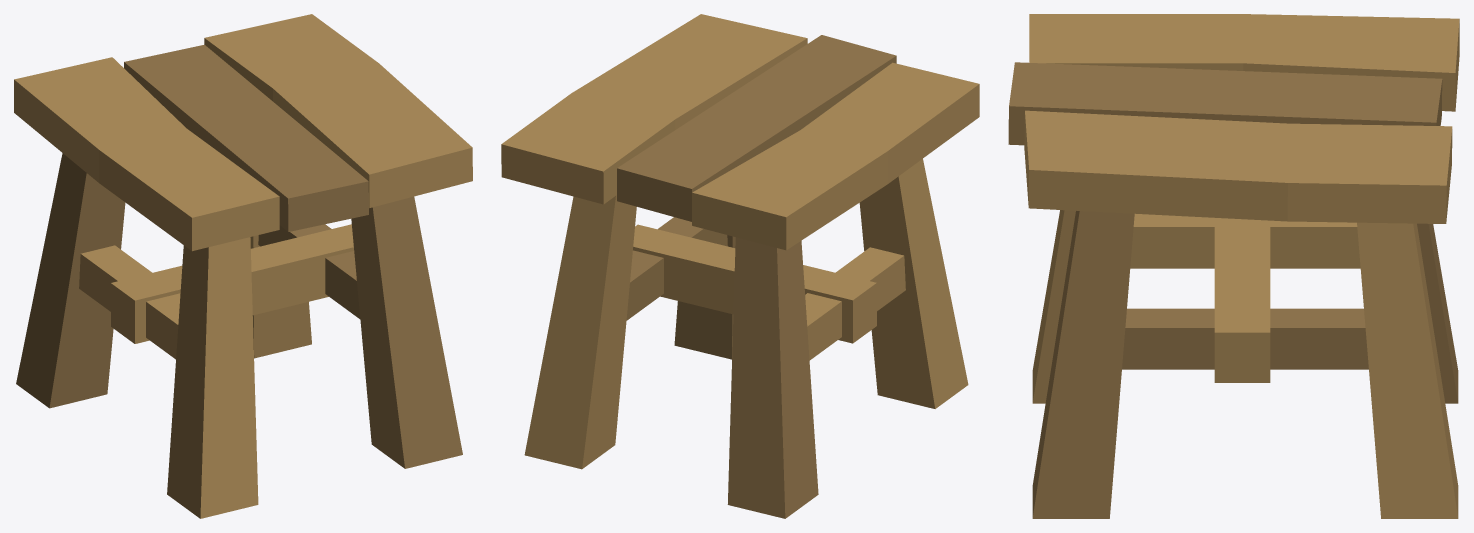
Rendered from Wooden_Chair.gltf.
3 views of the same model, side by side, from view 1: azimuth 30°, elevation 25°; view 2: azimuth 150°, elevation 25°; view 3: azimuth 270°, elevation 25° (orthographic). The views are drawn at different scales.
Parts seen in each view (by area): view 1: Wooden_Chair2; view 2: Wooden_Chair2; view 3: Wooden_Chair2.
Part boxes in pixels (x1,y1,x2,y2): Wooden_Chair2: (14, 14, 472, 518); Wooden_Chair2: (501, 14, 979, 518); Wooden_Chair2: (1008, 14, 1459, 518).
Size of the model in its own units: 0.113 by 0.11 by 0.1271.
Materials: 1 (1 with a texture image).
